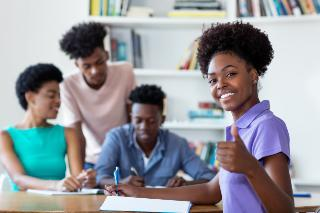person - v3 P: (105, 21, 295, 212), (95, 85, 215, 188), (0, 64, 96, 191), (60, 23, 135, 169)
